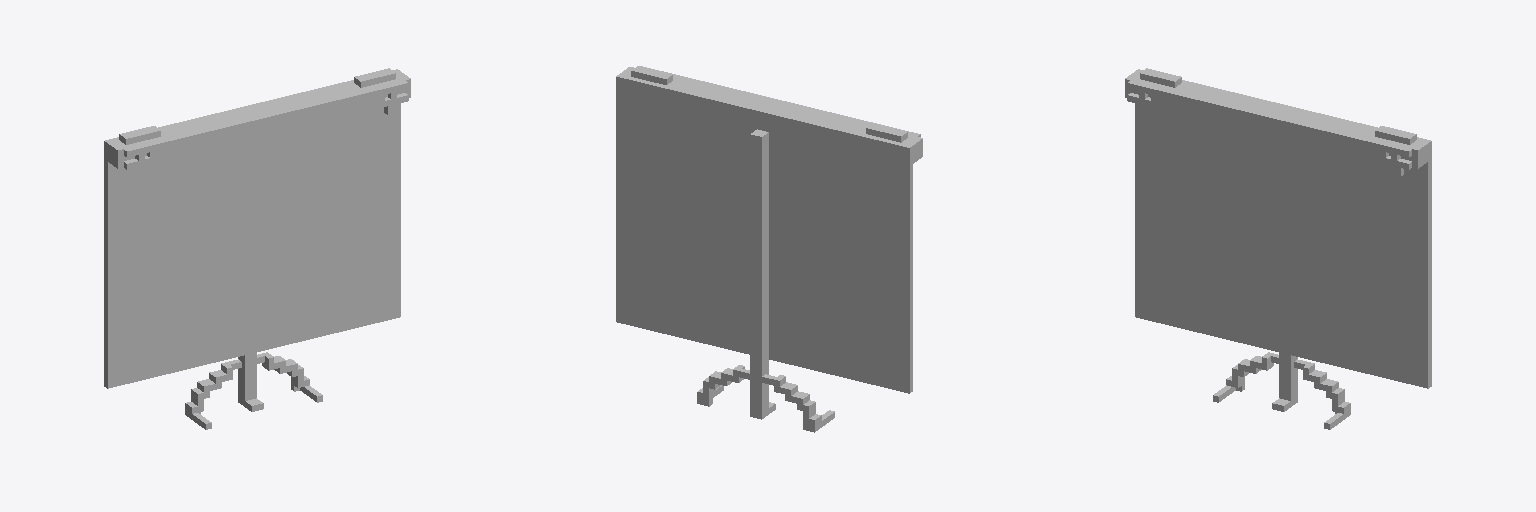
File: proyector.obj
The picture shows the model from 3 angles: view 1: azimuth 30°, elevation 25°; view 2: azimuth 150°, elevation 25°; view 3: azimuth 330°, elevation 25°; orthographic projection.
Bounding box in the file's own units: 2.5 × 2.5 × 0.35.